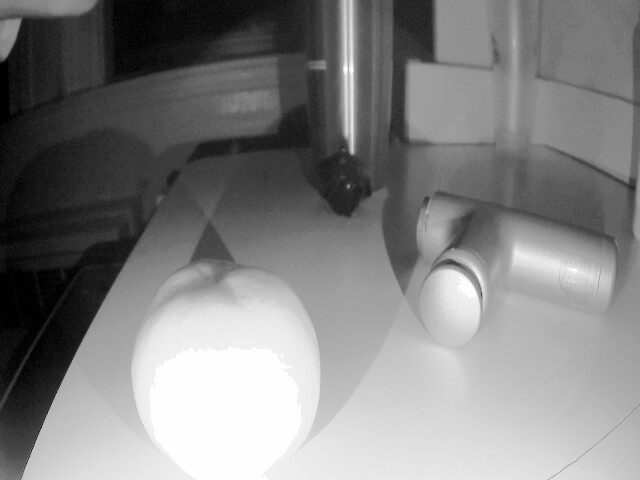black: (314, 160, 386, 221)
